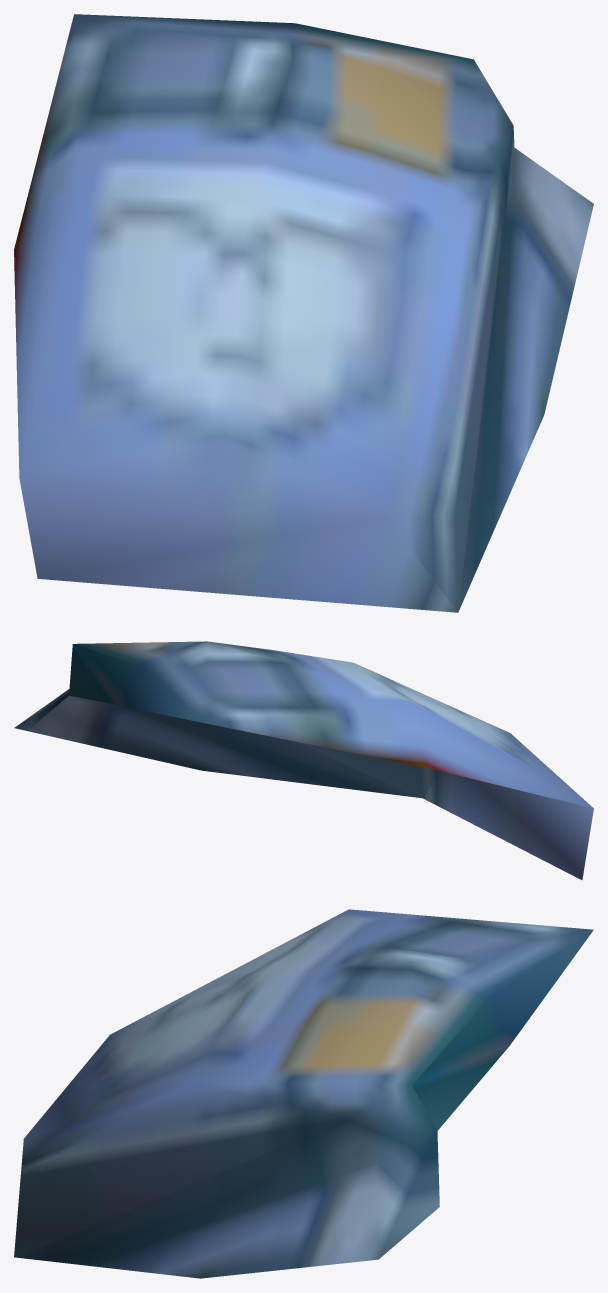
Rendered from fg_bottoms_out.dae.
3 renders of one model, top to bottom at view 1: azimuth 30°, elevation 25°; view 2: azimuth 150°, elevation 25°; view 3: azimuth 270°, elevation 25°, orthographic. The views are drawn at different scales.
Parts seen in each view (by area): view 1: fg_bottoms_out; view 2: fg_bottoms_out; view 3: fg_bottoms_out.
Part boxes in pixels (<box>): fg_bottoms_out: <box>14,14,593,612</box>; fg_bottoms_out: <box>14,641,593,879</box>; fg_bottoms_out: <box>14,909,593,1278</box>.
Size of the model in its own units: 18.83 by 9.74 by 16.12.
1 material, 1 textured.
